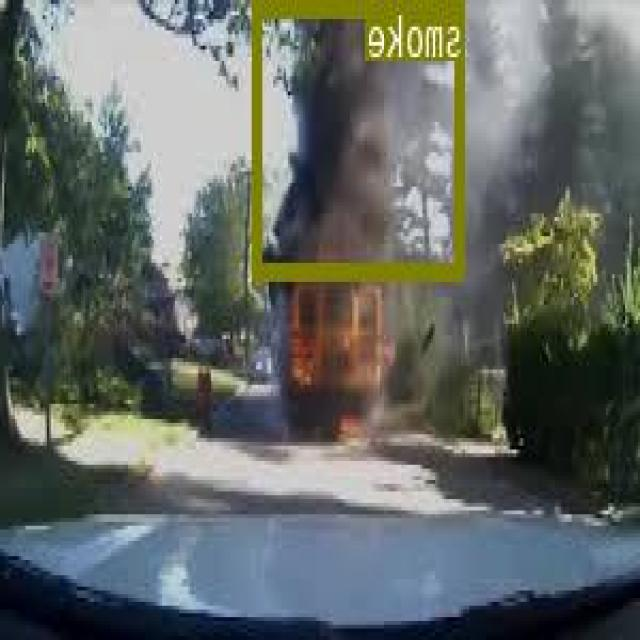smoke: (255, 0, 466, 278)
